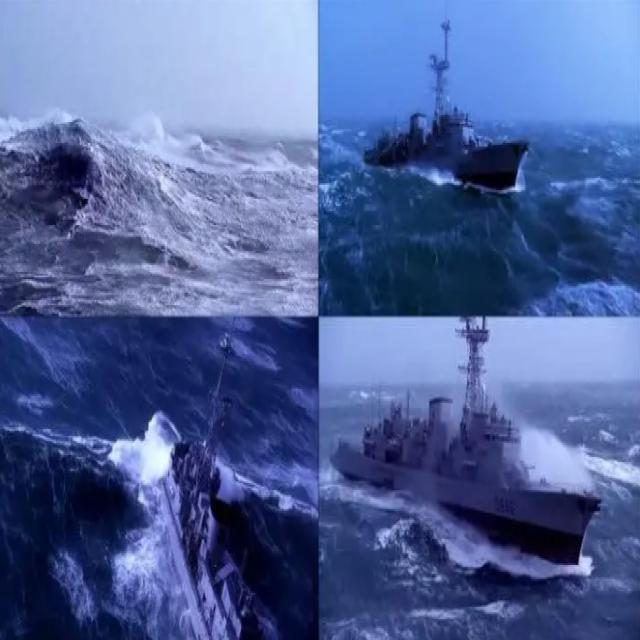navalvessels: (332, 332, 603, 587), (364, 18, 534, 209)
